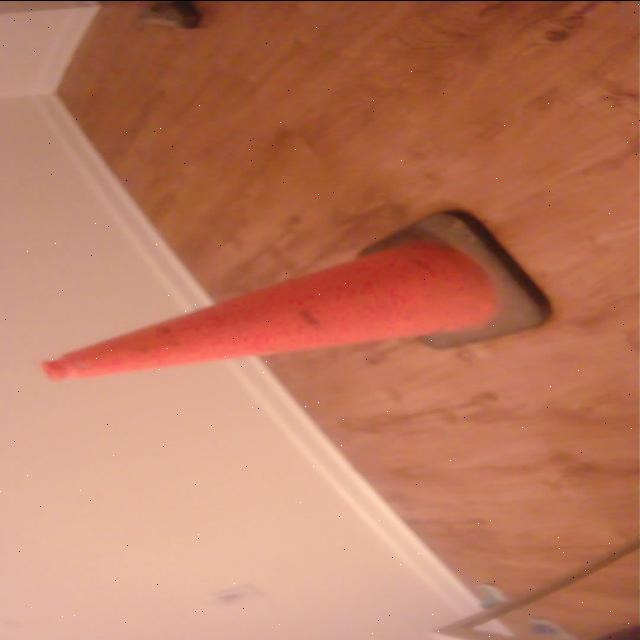traffic cone: (34, 207, 556, 385)
